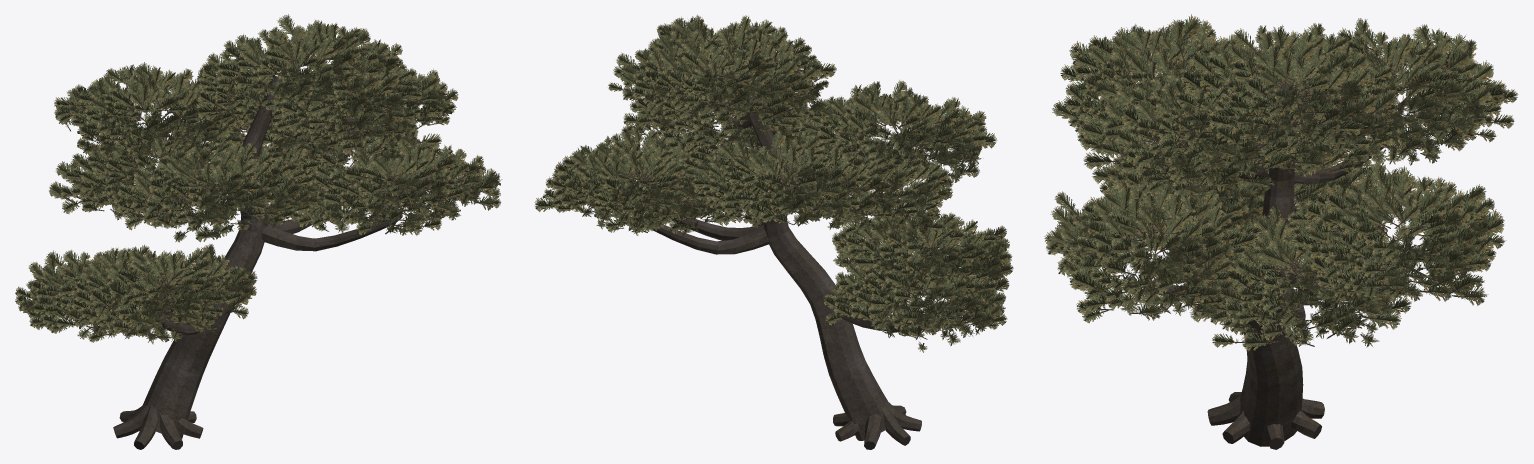
The model's file is pine-windswept.glb.
3 renders of one model, left to right at view 1: azimuth 30°, elevation 25°; view 2: azimuth 150°, elevation 25°; view 3: azimuth 270°, elevation 25°, orthographic. The views are drawn at different scales.
Visible parts, largest first — view 1: pine-windswept_Needles, pine-windswept_Bark; view 2: pine-windswept_Needles, pine-windswept_Bark; view 3: pine-windswept_Needles, pine-windswept_Bark.
Part boxes in pixels (left/top/right/bottom): pine-windswept_Needles: left=15, top=14, right=502, bottom=344; pine-windswept_Bark: left=113, top=76, right=426, bottom=449; pine-windswept_Needles: left=534, top=14, right=1013, bottom=352; pine-windswept_Bark: left=628, top=86, right=944, bottom=449; pine-windswept_Needles: left=1044, top=14, right=1518, bottom=351; pine-windswept_Bark: left=1126, top=83, right=1435, bottom=449.
Size of the model in its own units: 10 by 8 by 7.42.
Materials: 2 (2 with a texture image).
